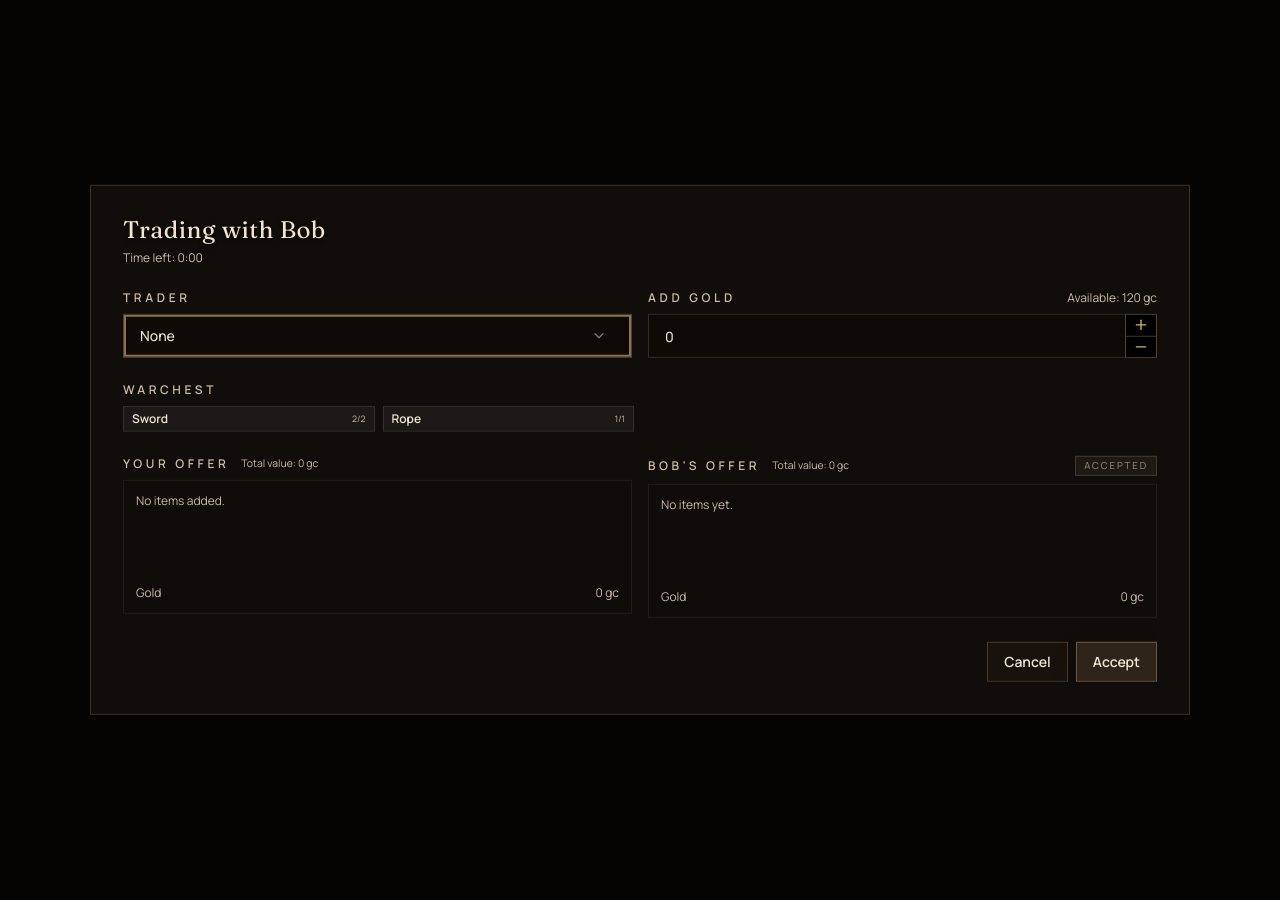
Test: TradeSessionDialog: Accept and Unaccept › shows both sides unlocked and why when the completing lock fails
The image size is (1280, 900).
Expected: the text "Accepted" is shown, [1075, 456, 1157, 476]
Click the button "Accept". click: (1116, 662)
box: [1076, 642, 1157, 682]
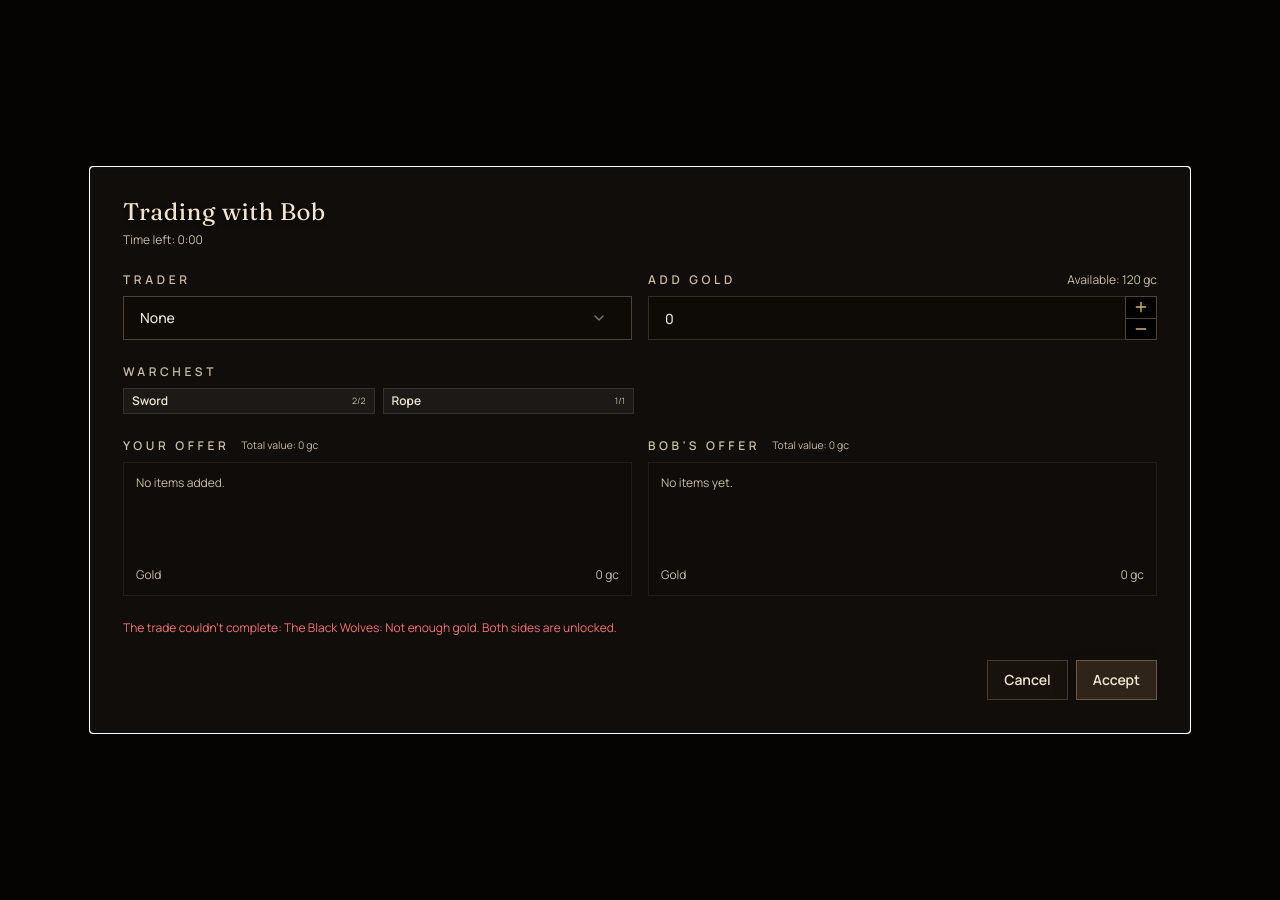
Expected: the button "Accept" is enabled, [1076, 660, 1157, 700]
Now the text "The trade couldn't complete: The Black Wolves: Not enough gold. Both sides are unlocked." is shown, box [123, 619, 617, 636]
Now the text "Accepted" is gone
